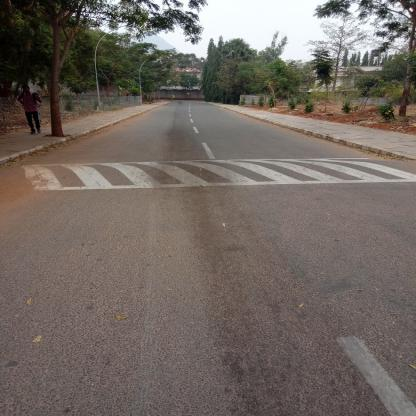speed-bumps: (12, 151, 414, 199)
